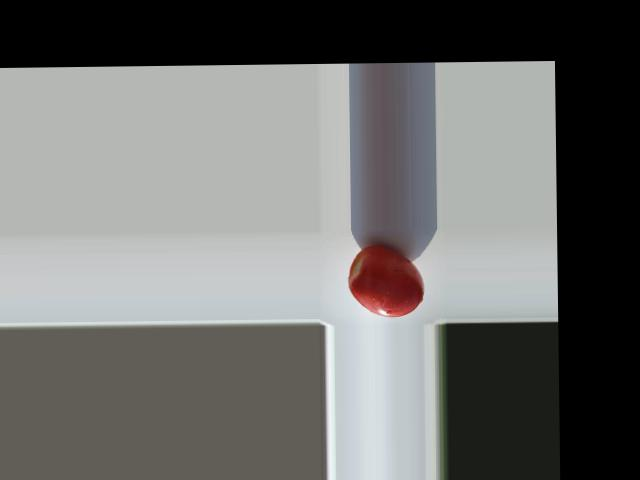tomato: (348, 245, 424, 317)
